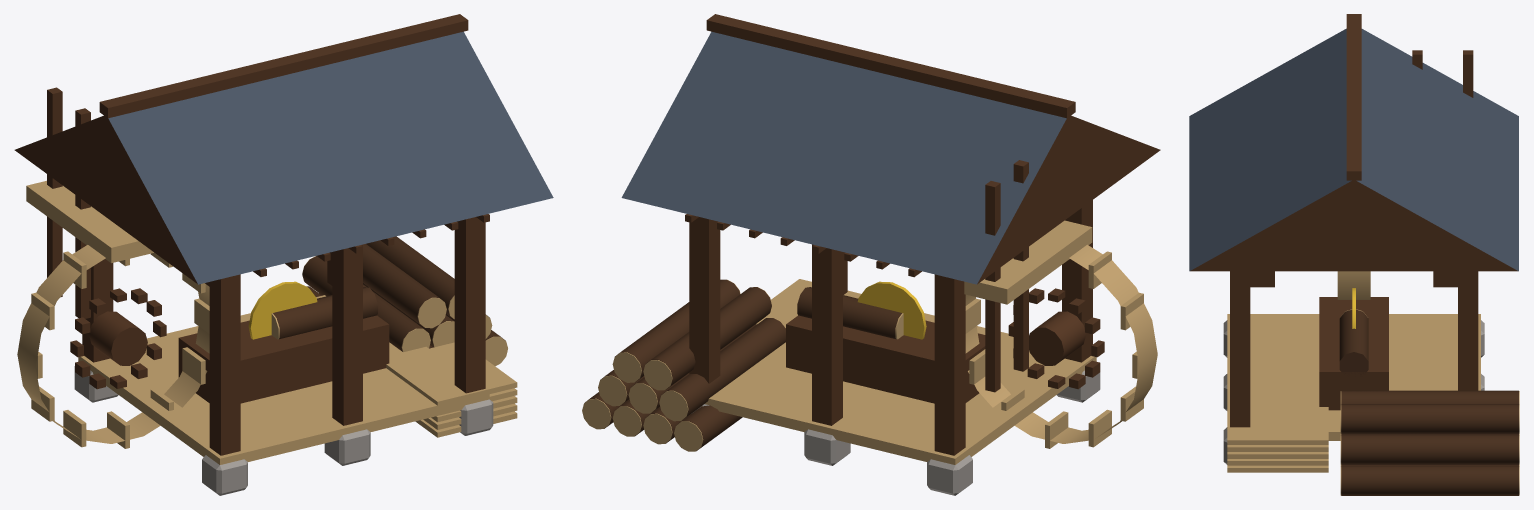
The model's file is AoE4_LumberMill.obj.
The picture shows the model from 3 angles, left to right: view 1: azimuth 30°, elevation 25°; view 2: azimuth 150°, elevation 25°; view 3: azimuth 270°, elevation 25°; orthographic projection. The views are drawn at different scales.
Bounding box in the file's own units: 3.87 × 2.73 × 2.61.
